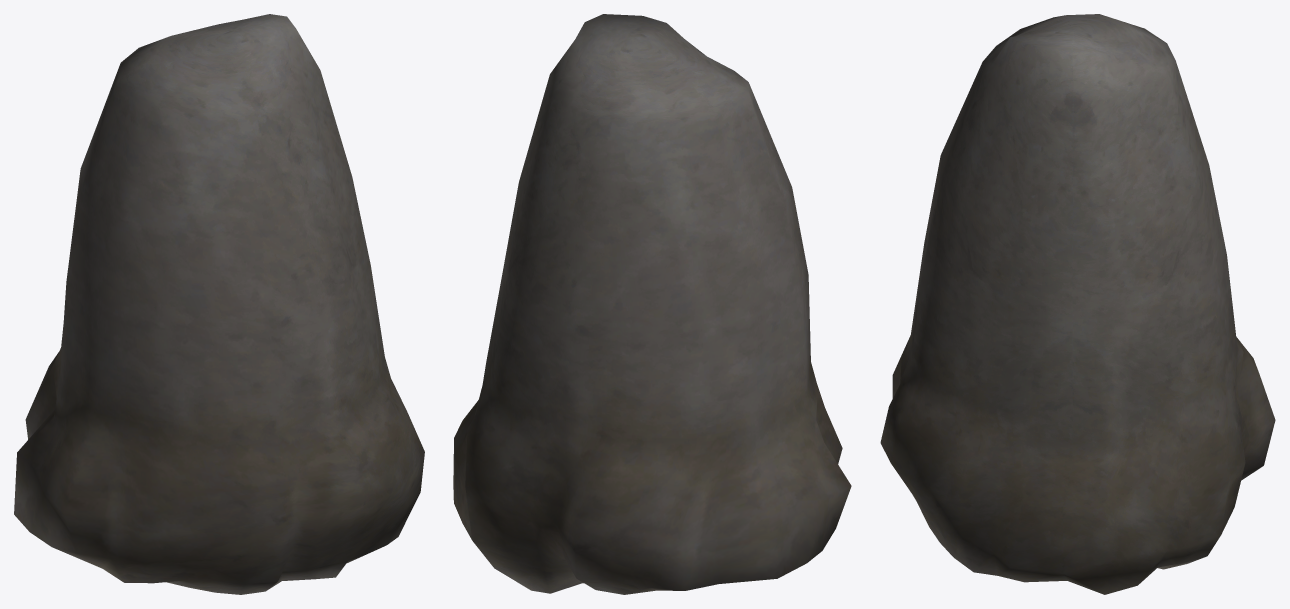
File: Rock1Shape.dae
The picture shows the model from 3 angles, left to right: view 1: azimuth 30°, elevation 25°; view 2: azimuth 150°, elevation 25°; view 3: azimuth 270°, elevation 25°; orthographic projection.
Visible parts, largest first — view 1: Rock1; view 2: Rock1; view 3: Rock1.
Part boxes in pixels (left/top/right/bottom): Rock1: left=14, top=14, right=424, bottom=594; Rock1: left=453, top=14, right=851, bottom=594; Rock1: left=880, top=14, right=1275, bottom=594.
Size of the model in its own units: 4.19 by 5.81 by 4.07.
